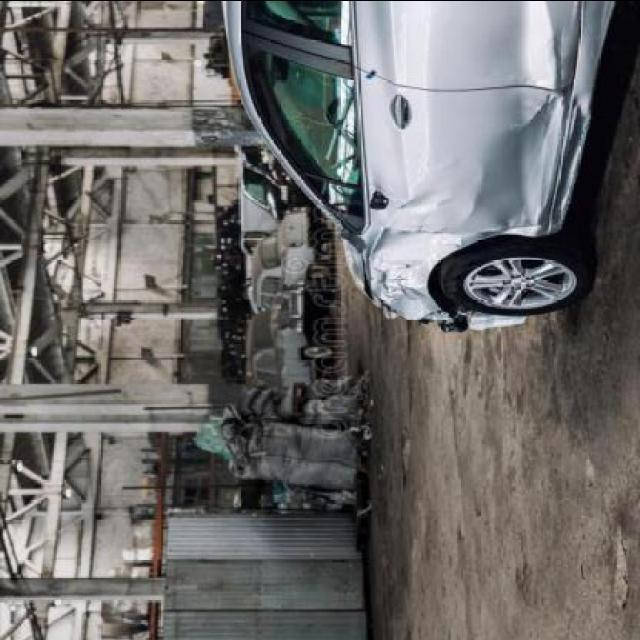RunningBoard-Dent: (540, 96, 592, 229), (563, 1, 619, 105)
doorouter-dent: (368, 79, 551, 226)
fender-dent: (372, 227, 510, 328)
